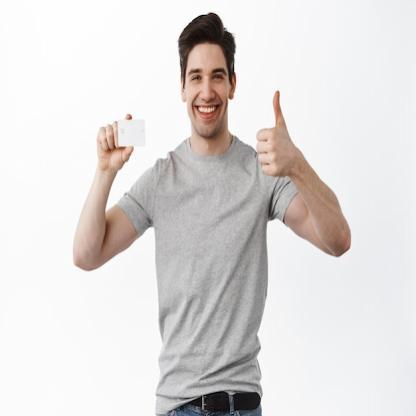thumb_up: (254, 86, 296, 180)
